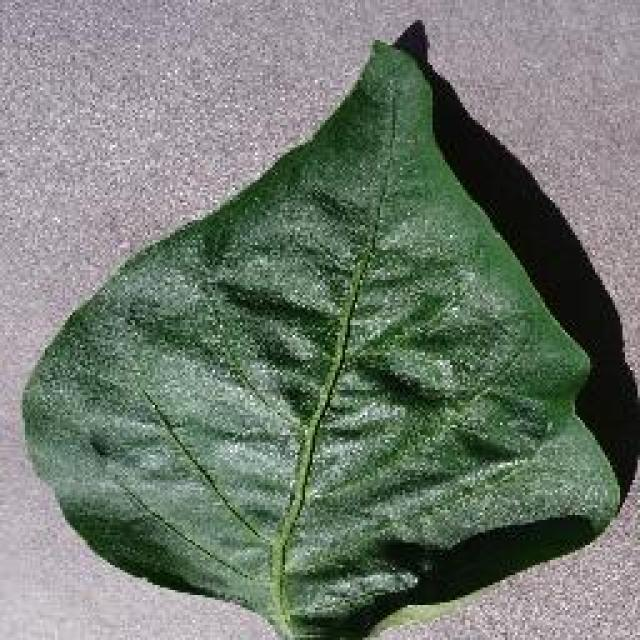Chilli_Healthy: (17, 18, 625, 638)
